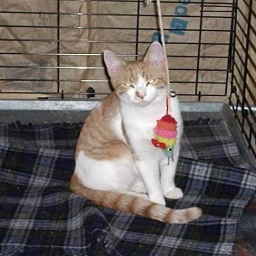cat: (73, 43, 206, 229)
